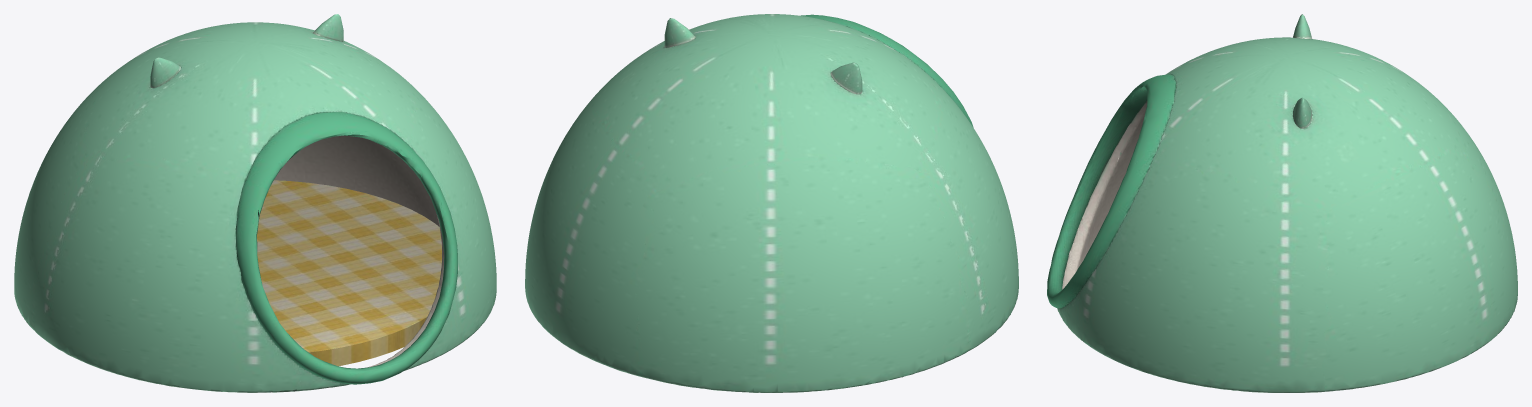
Rendered from hideout.glb.
3 views of the same model, side by side, from view 1: azimuth 30°, elevation 25°; view 2: azimuth 150°, elevation 25°; view 3: azimuth 270°, elevation 25° (orthographic). The views are drawn at different scales.
Visible parts, largest first — view 1: hideout; view 2: hideout; view 3: hideout.
Part boxes in pixels (box(x1,y1,x2,y2)): hideout: box(14, 14, 496, 392); hideout: box(525, 14, 1018, 392); hideout: box(1047, 14, 1517, 392).
Bounding box in the file's own units: 1.44 × 0.8217 × 1.46.
1 material, 1 textured.
